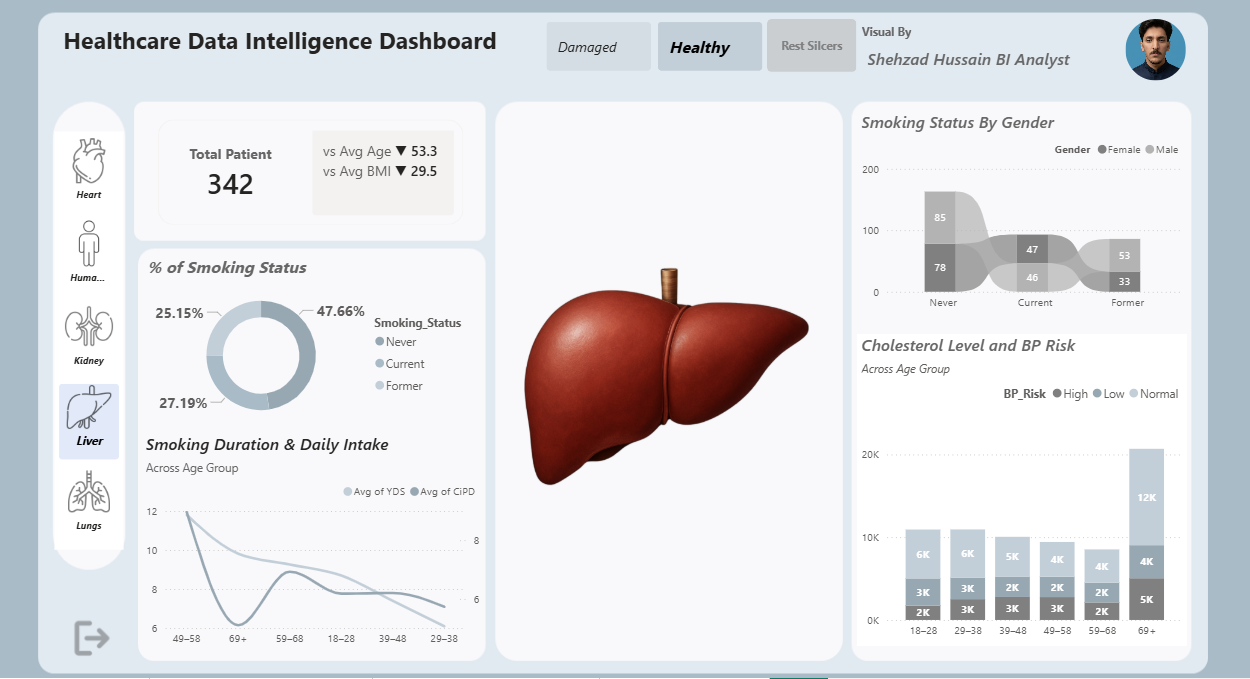

Layout of this report page (visuals, bound fields, positions):
{"tool":"powerbi","page":{"name":"Smoking Analysis","canvas":[1440,810],"ordinal":0},"visuals":[{"type":"cardVisual","fields":{"Data":["DAX Measures.Total Patient"]},"box":[165.1,128.6,385.7,155.6],"z":0},{"type":"advancedSlicerVisual","fields":{"Values":["condition.Organ_Condition"]},"box":[624.6,29,259.4,66.7],"z":1000},{"type":"advancedSlicerVisual","fields":{"Values":["Organs.Organ"]},"box":[64.1,159.8,79.3,480.4],"z":2000},{"type":"image","box":[578.3,135.9,381.5,615.2],"z":3000},{"type":"donutChart","title":"% of Smoking Status","fields":{"Y":["DAX Measures.Total Smoker"],"Category":["health_dataset.Smoking_Status"]},"box":[165.2,303.3,385.9,203.3],"z":4000},{"type":"lineChart","title":"Smoking Duration & Daily Intake","fields":{"Category":["health_dataset.Age Group"],"Y2":["Avg(health_dataset.Cigarettes_Per_Day)"],"Y":["Avg(health_dataset.Years_of_Smoking)"]},"box":[163,506.5,393.5,254.3],"z":5000},{"type":"ribbonChart","title":"Smoking Status By Gender","fields":{"Category":["health_dataset.Smoking_Status"],"Y":["DAX Measures.Total Patient"],"Series":["health_dataset.Gender"]},"box":[985.9,135.9,379.3,238],"z":6000},{"type":"columnChart","title":"Cholesterol Level and BP Risk ","fields":{"Category":["health_dataset.Age Group"],"Y":["Sum(health_dataset.Cholesterol_Level)"],"Series":["health_dataset.BP_Risk"]},"box":[985.9,392.4,379.3,358.7],"z":7000},{"type":"textbox","box":[68.1,31.9,530.4,72.5],"z":8000},{"type":"shape","title":"Visual By","box":[986.7,31.1,386.7,73.3],"z":9000},{"type":"image","box":[1295.7,31.5,69.6,70.7],"z":10000},{"type":"textbox","box":[993.3,57.8,246.7,37.8],"z":11000},{"type":"actionButton","box":[61.8,704.4,77.9,67.6],"z":12000},{"type":"actionButton","box":[882.6,31.9,102.9,60.9],"z":13000}]}

Visuals, with their boxes on the page's 1440x810 design canvas (x1, y1, x2, y2). These are canvas units, not pixel positions in the 1250x679 screenshot, which may show the page scaled, cropped or inside an application window:
cardVisual - DAX Measures.Total Patient: 165 129 551 284
advancedSlicerVisual - condition.Organ_Condition: 625 29 884 96
advancedSlicerVisual - Organs.Organ: 64 160 143 640
image: 578 136 960 751
"% of Smoking Status" donutChart: 165 303 551 507
"Smoking Duration & Daily Intake" lineChart: 163 506 556 761
"Smoking Status By Gender" ribbonChart: 986 136 1365 374
"Cholesterol Level and BP Risk " columnChart: 986 392 1365 751
textbox: 68 32 598 104
"Visual By" shape: 987 31 1373 104
image: 1296 32 1365 102
textbox: 993 58 1240 96
actionButton: 62 704 140 772
actionButton: 883 32 986 93
